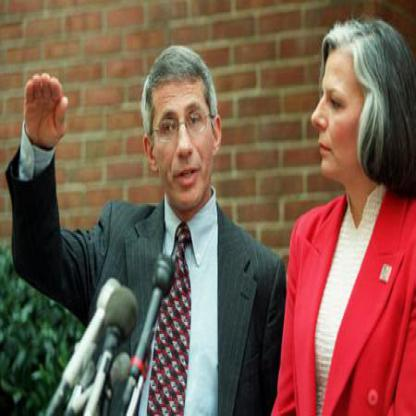face: (152, 48, 215, 210), (309, 29, 373, 182)
